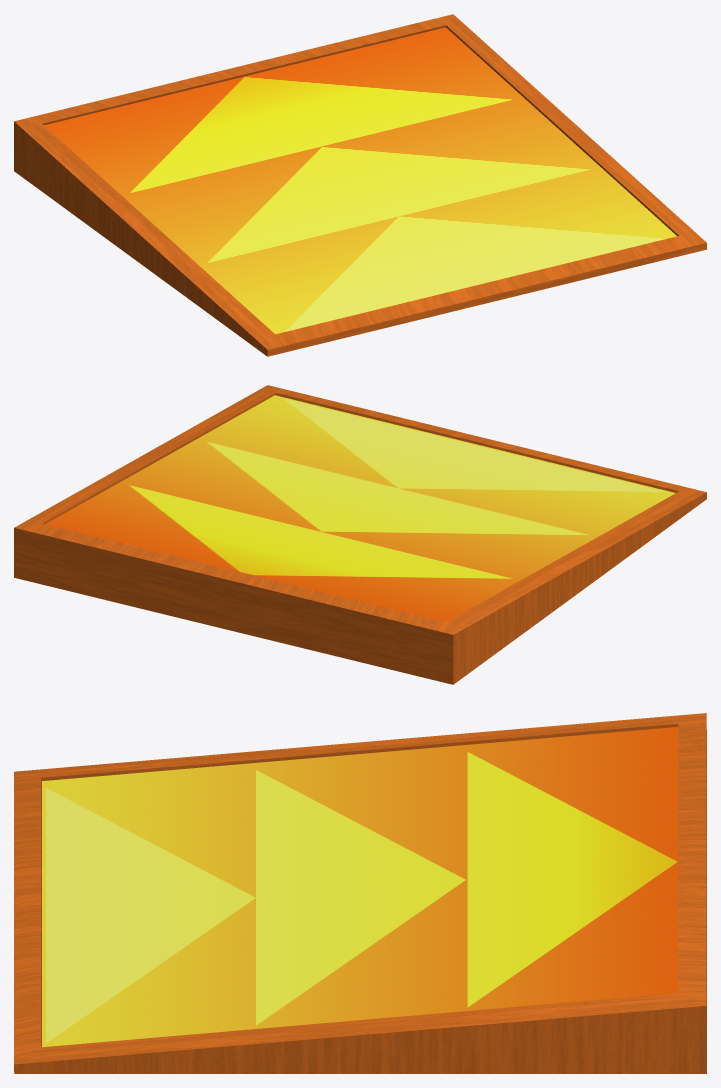
File: BgTX_jump_01_01.fbx
3 views of the same model, one above another, from view 1: azimuth 30°, elevation 25°; view 2: azimuth 150°, elevation 25°; view 3: azimuth 270°, elevation 25° (orthographic). The views are drawn at different scales.
Parts seen in each view (by area): view 1: BgMD_jump_01_01; view 2: BgMD_jump_01_01; view 3: BgMD_jump_01_01.
Part boxes in pixels (x1,y1,x2,y2): BgMD_jump_01_01: (14, 14, 706, 356); BgMD_jump_01_01: (14, 385, 706, 684); BgMD_jump_01_01: (14, 713, 706, 1073).
Bounding box in the file's own units: 304 × 33.59 × 304.
